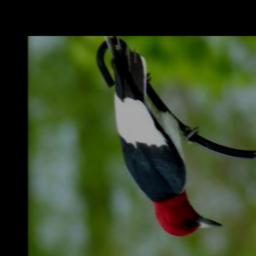Woodpecker: (102, 37, 224, 239)
